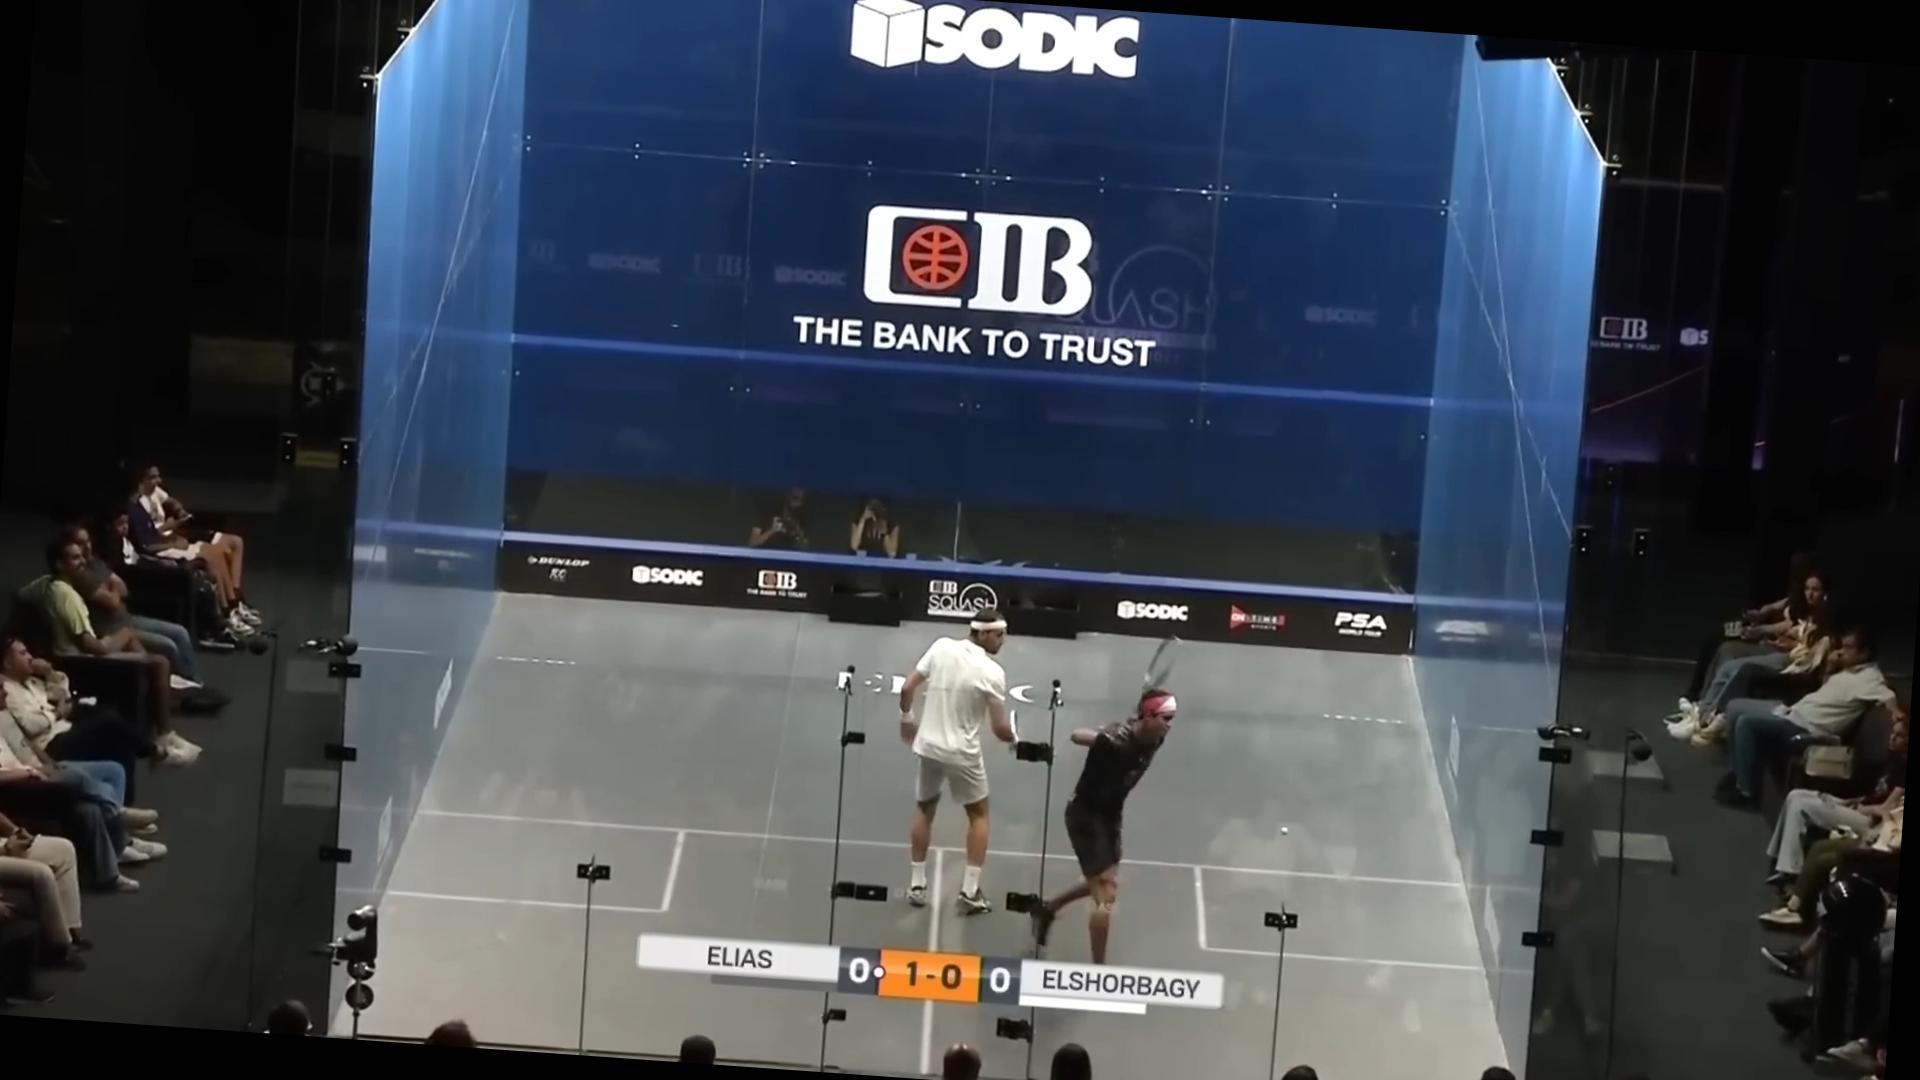Squash-Ball: (1263, 814, 1303, 849)
